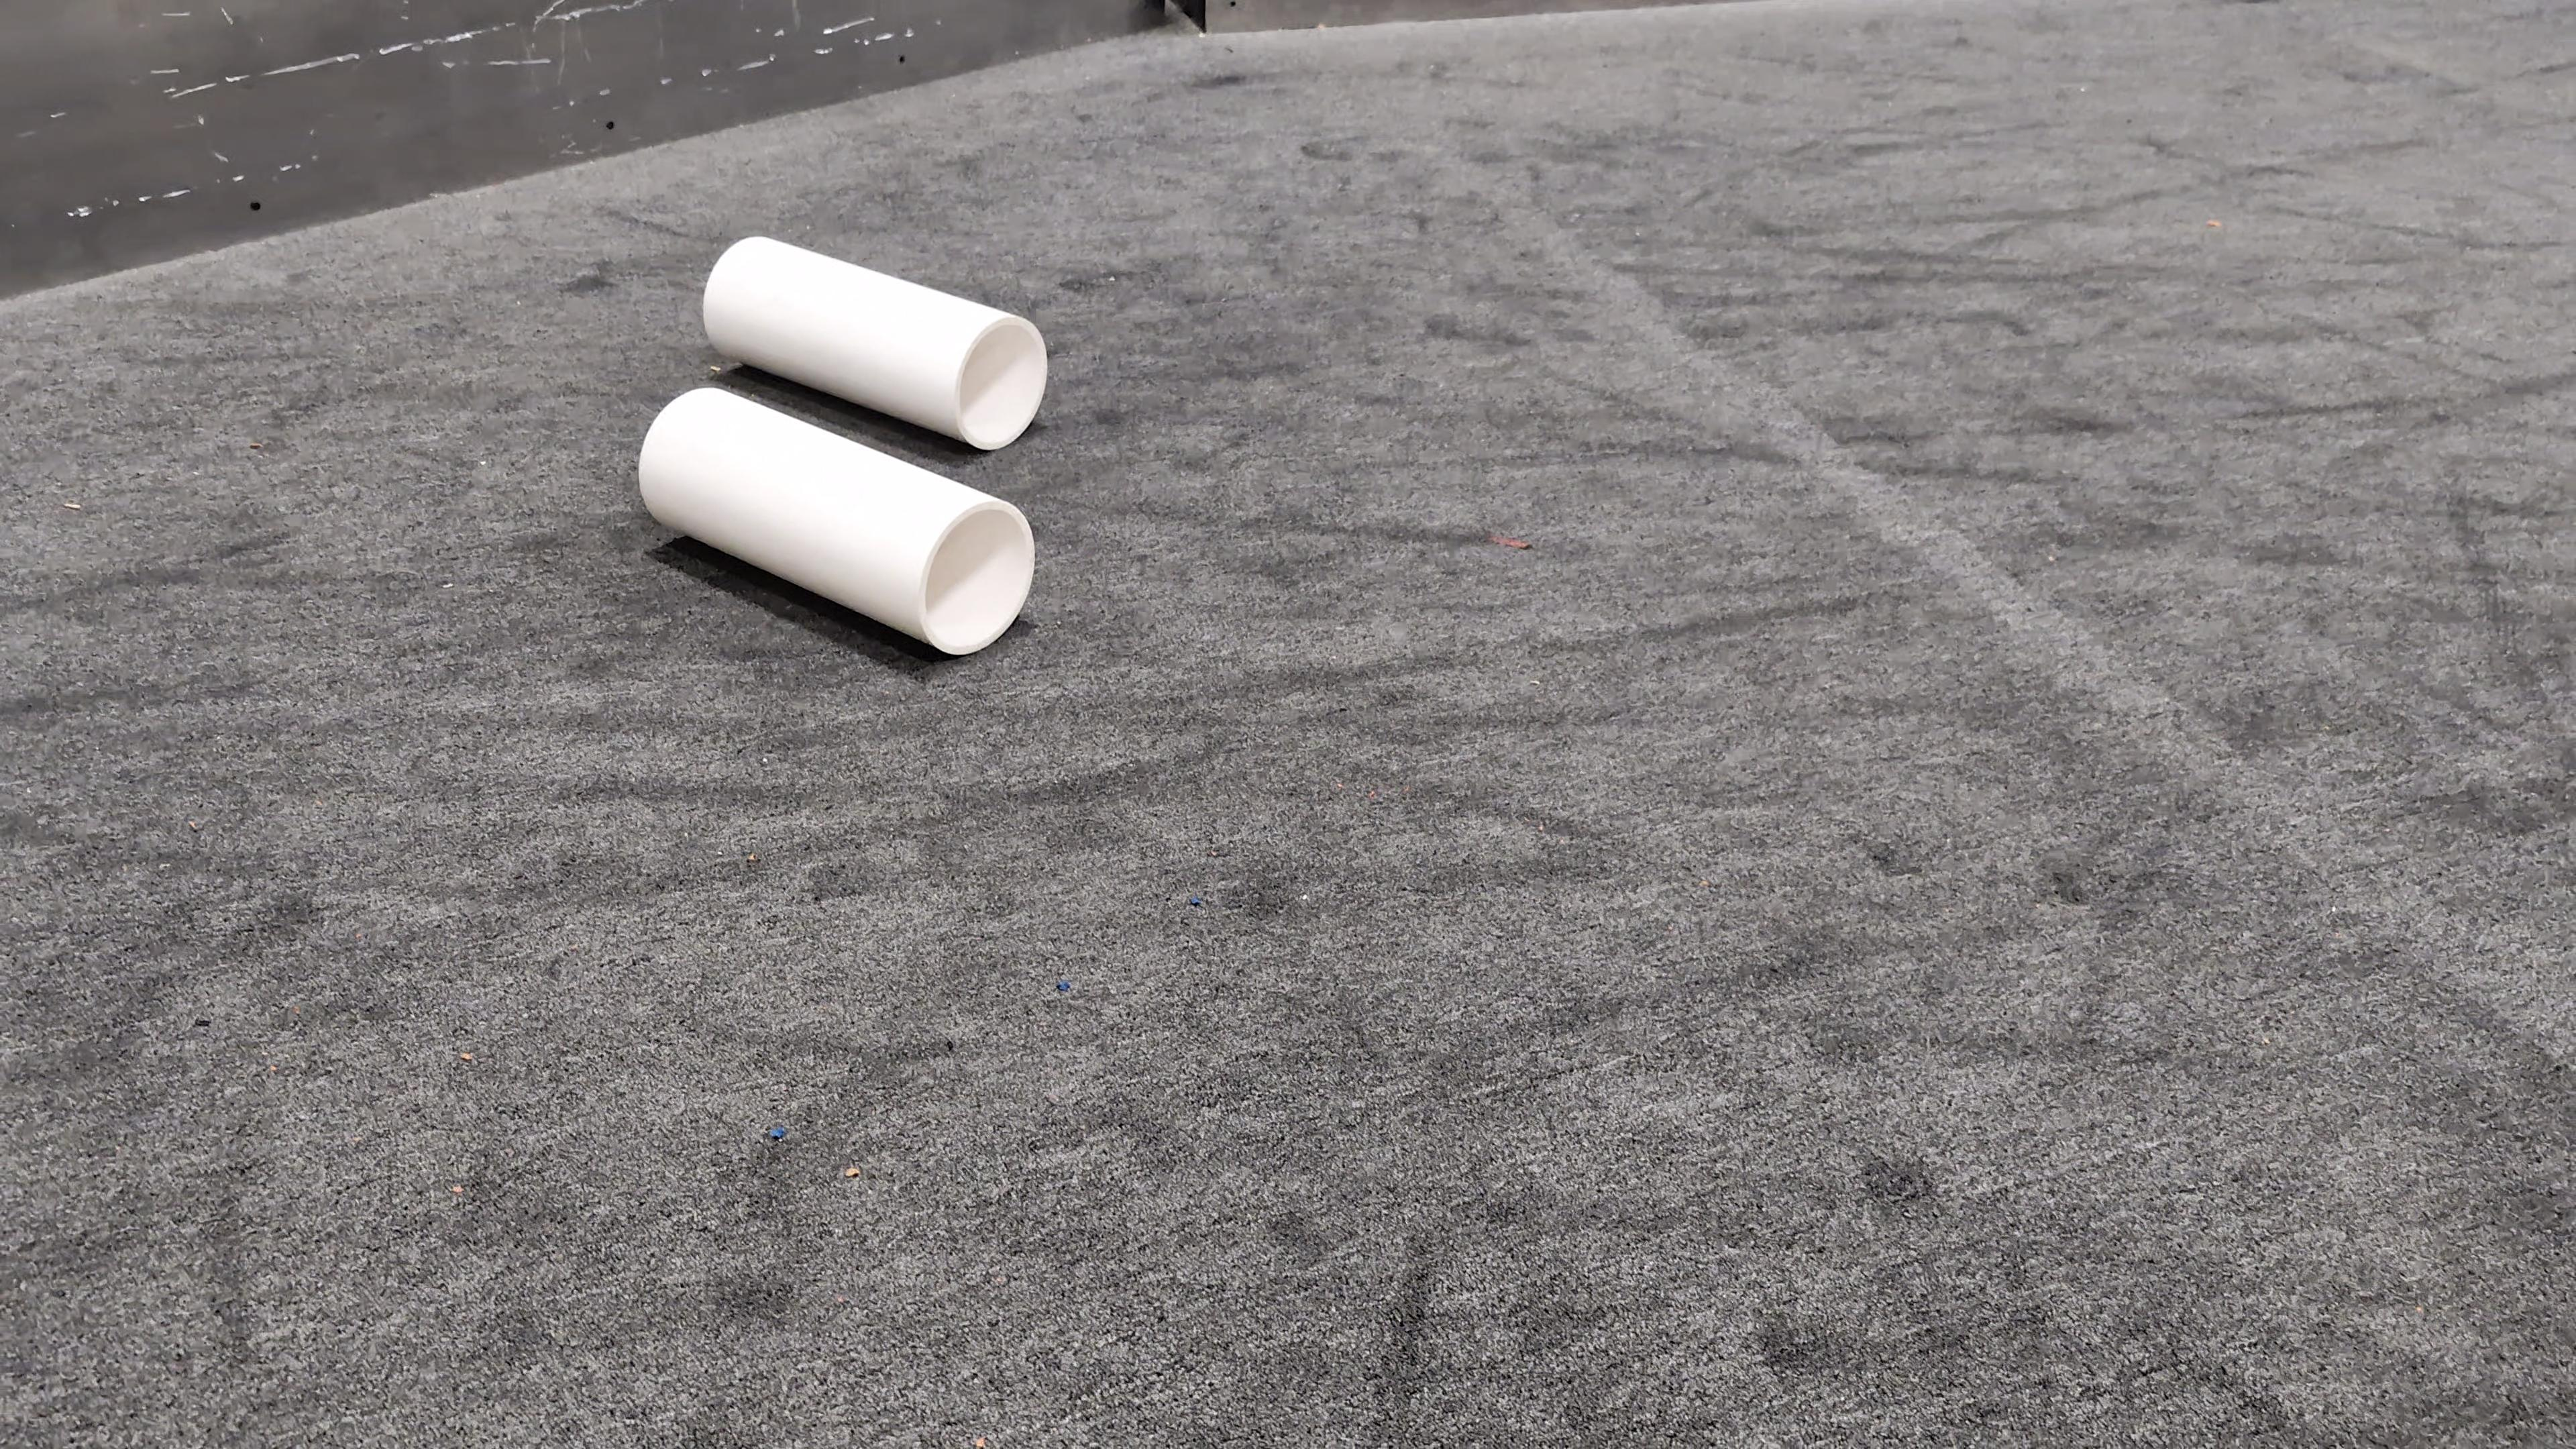coral: (642, 389, 1035, 653), (701, 232, 1047, 449)
